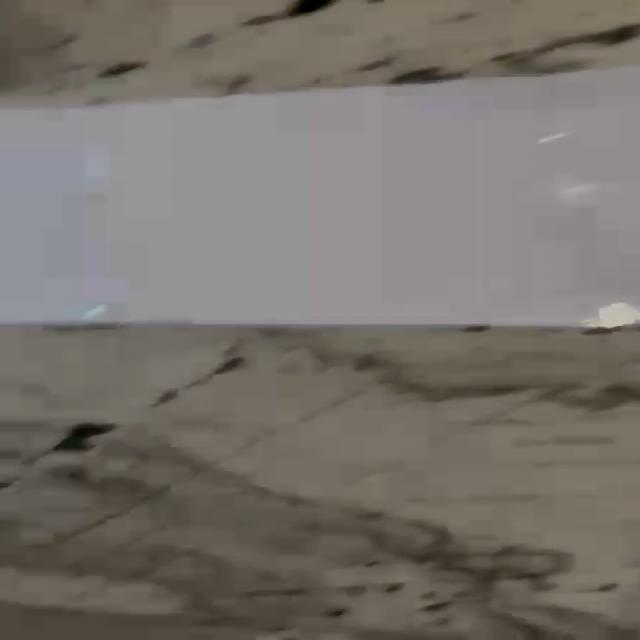road: (0, 63, 640, 327)
